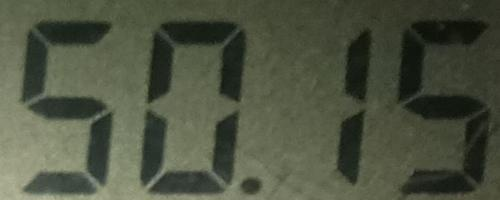.: (237, 175, 263, 197)
